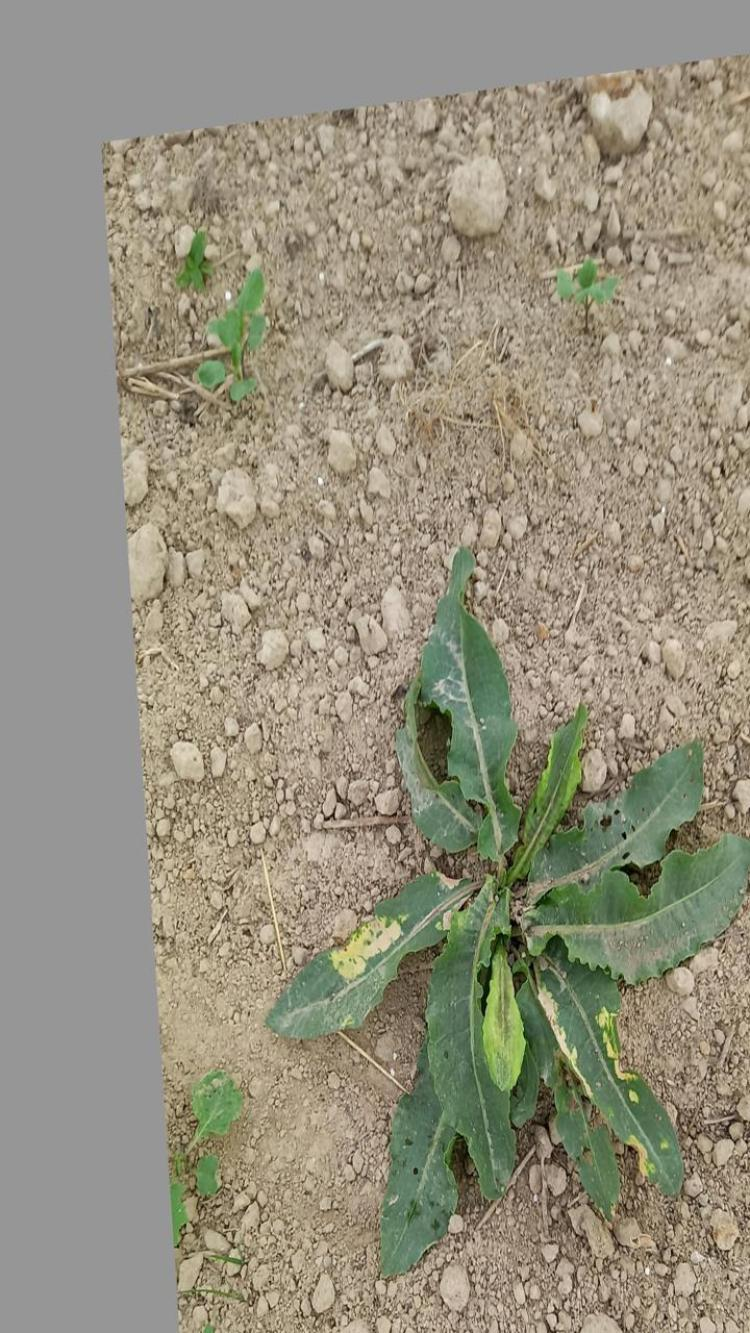zhavel: (262, 537, 750, 1289)
